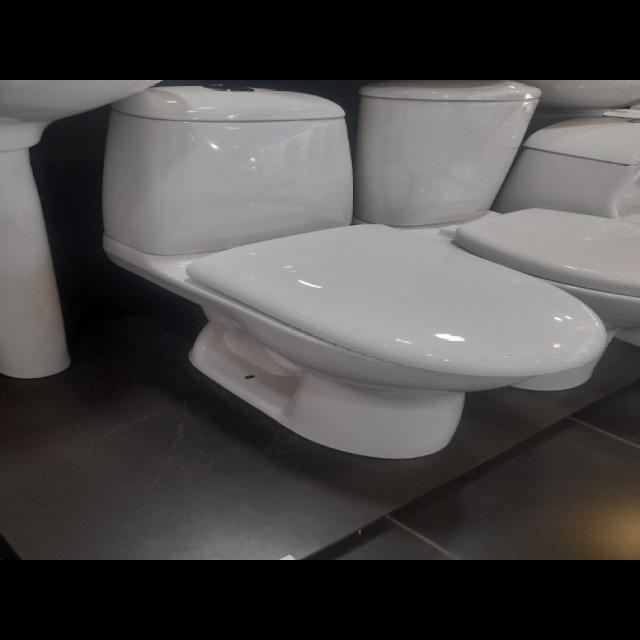toilet: (101, 88, 616, 466), (352, 86, 640, 350)
